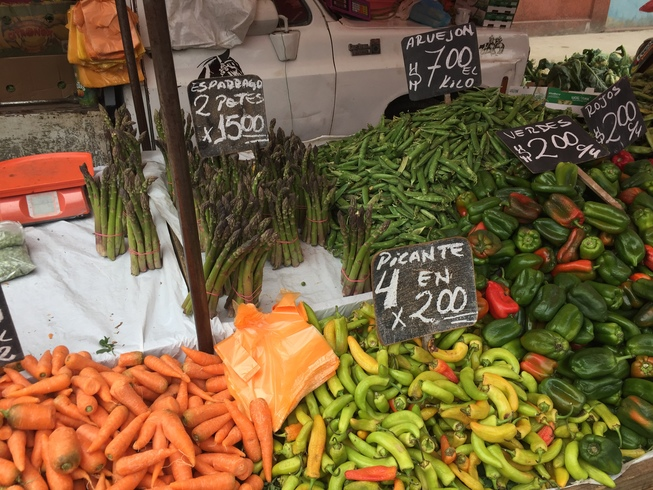precio: (365, 226, 479, 349), (494, 112, 608, 185), (187, 68, 265, 166), (397, 24, 490, 98), (580, 77, 650, 159)
